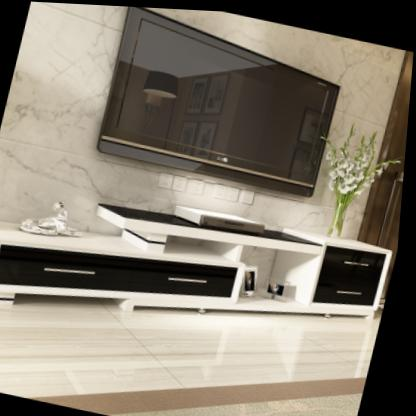Carpet: (41, 377, 370, 416)
Ceramic floor: (0, 298, 385, 398)
TV stand: (0, 202, 397, 315)
